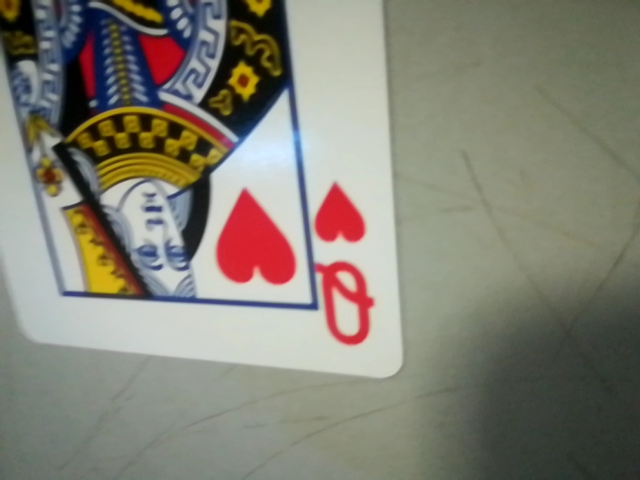hx q: (303, 172, 391, 361)
